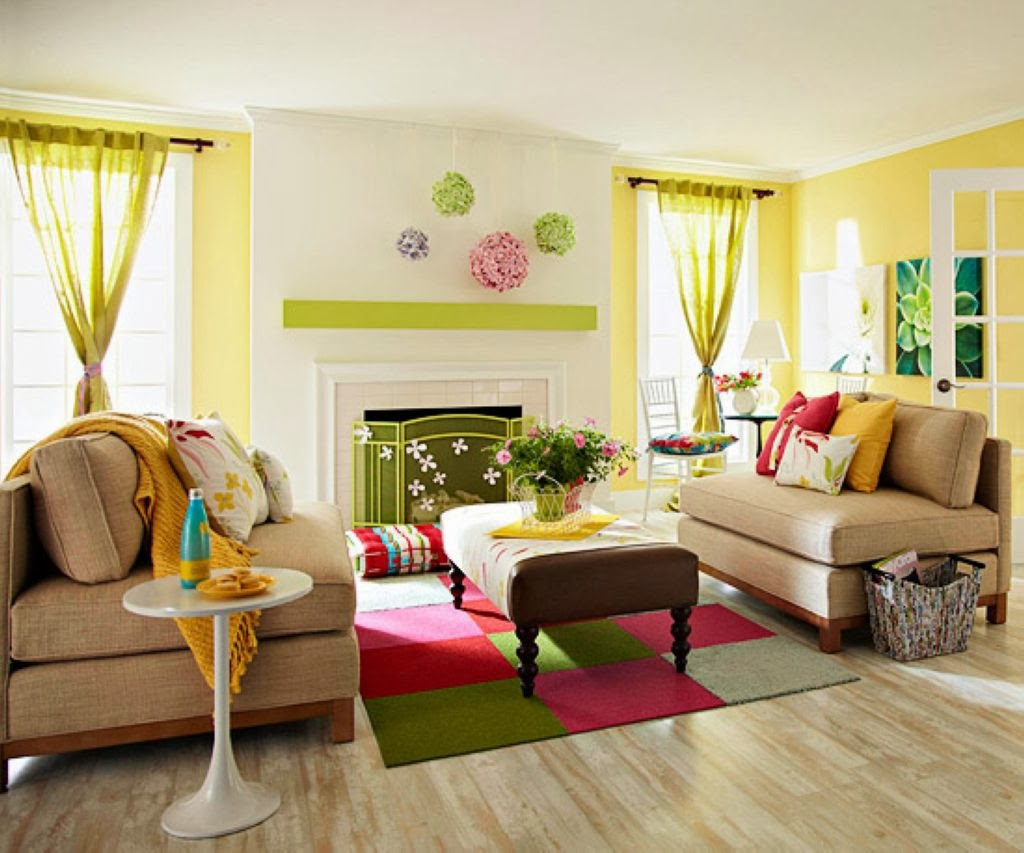biru: (181, 500, 208, 586)
coklat: (512, 546, 694, 685)
hijau: (532, 207, 575, 260), (428, 169, 471, 222)
kuning: (126, 410, 182, 569), (833, 399, 892, 489)
merah: (802, 394, 837, 430)
pink: (472, 231, 530, 292)
putih: (126, 568, 310, 832), (738, 320, 790, 362), (732, 389, 759, 416)
